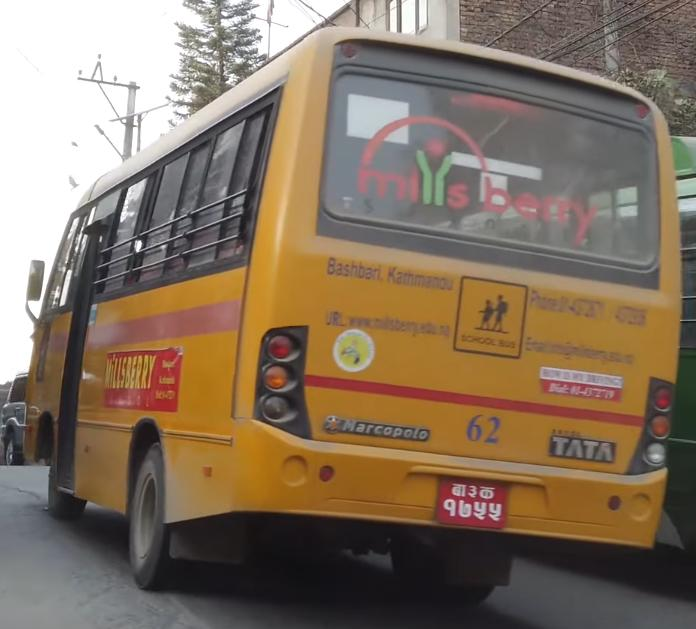school_bus: (8, 21, 690, 592)
